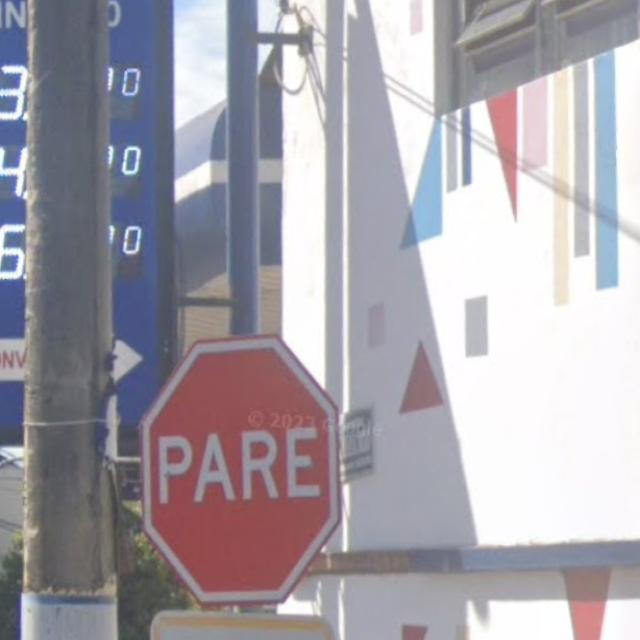stop: (118, 317, 358, 628)
